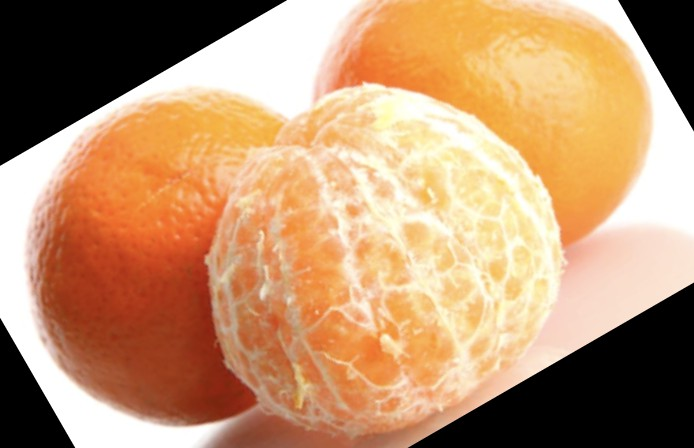fresh_orange: (25, 86, 326, 425), (309, 1, 654, 265)
